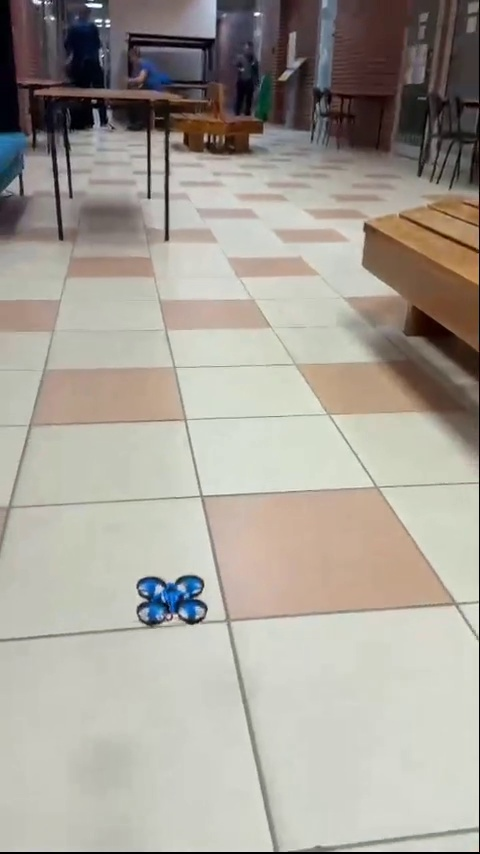drone: (135, 575, 210, 626)
no vest: (65, 6, 119, 124), (228, 36, 276, 133), (128, 43, 170, 103)
